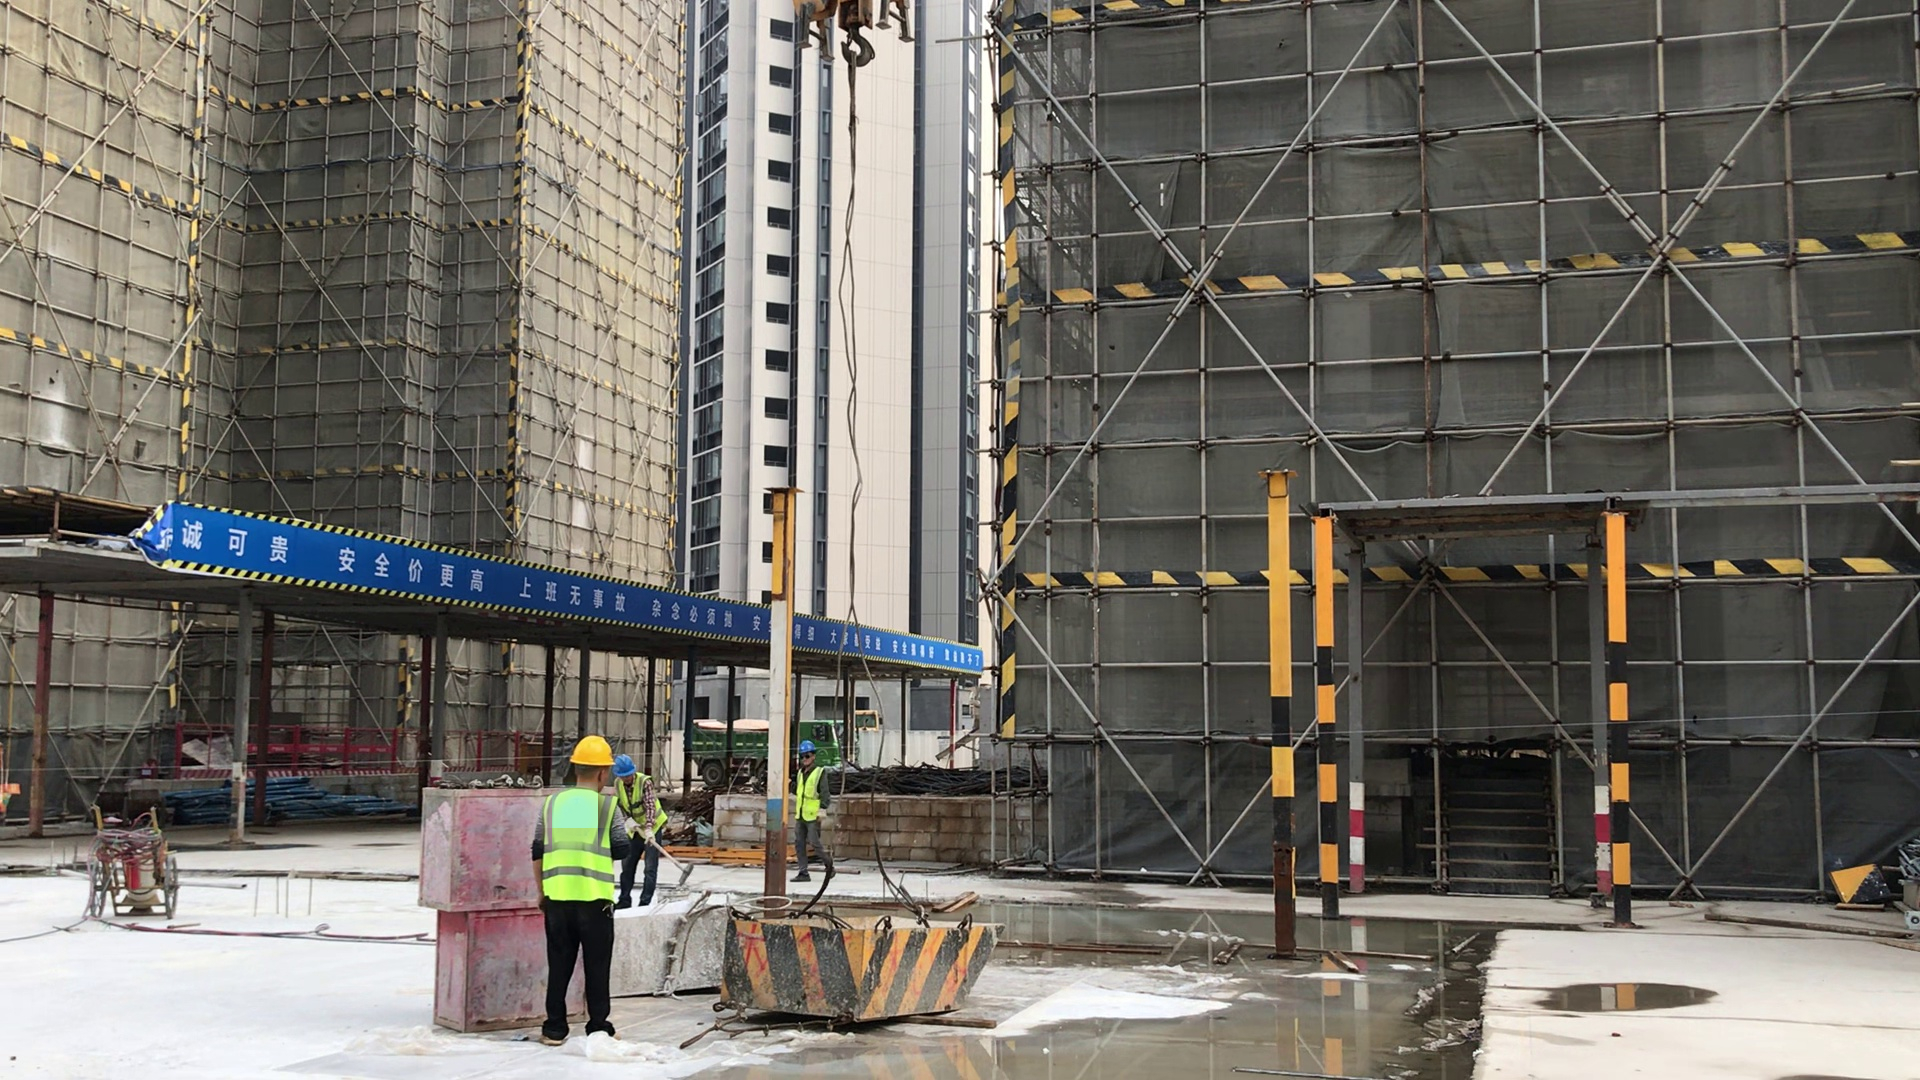fence: (178, 720, 547, 768)
handcart: (86, 803, 179, 922)
helmet: (571, 732, 614, 765), (612, 753, 635, 776), (798, 739, 816, 753)
hopper: (727, 911, 1001, 1023), (604, 892, 732, 996)
person: (531, 734, 633, 1046), (611, 755, 667, 909), (790, 739, 835, 882)
slogan: (158, 504, 988, 680)
vest: (544, 789, 615, 906), (613, 772, 666, 835), (796, 766, 823, 823)
